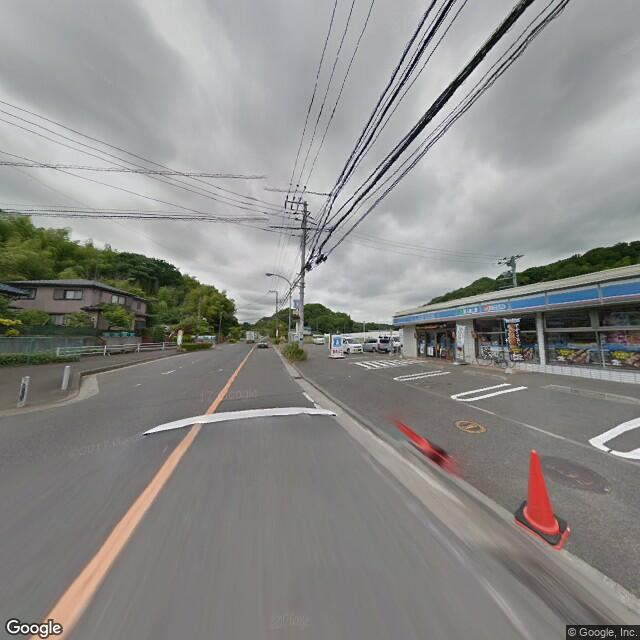lawson: (392, 269, 638, 329), (330, 332, 344, 348)
